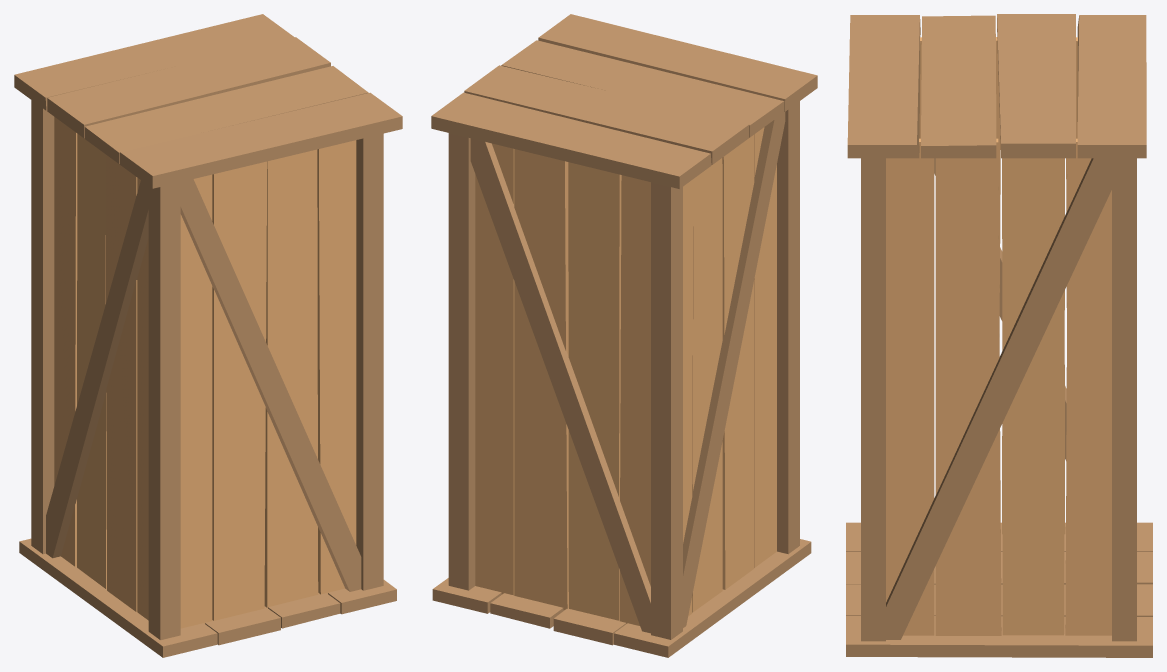
3 views of the same model, side by side, from view 1: azimuth 30°, elevation 25°; view 2: azimuth 150°, elevation 25°; view 3: azimuth 270°, elevation 25° (orthographic). The views are drawn at different scales.
Parts seen in each view (by area): view 1: crates.003; view 2: crates.003; view 3: crates.003.
Part boxes in pixels (x1,y1,x2,y2): crates.003: [14, 14, 402, 657]; crates.003: [431, 14, 817, 657]; crates.003: [846, 14, 1152, 657].
Size of the model in its own units: 231 by 430 by 231.
